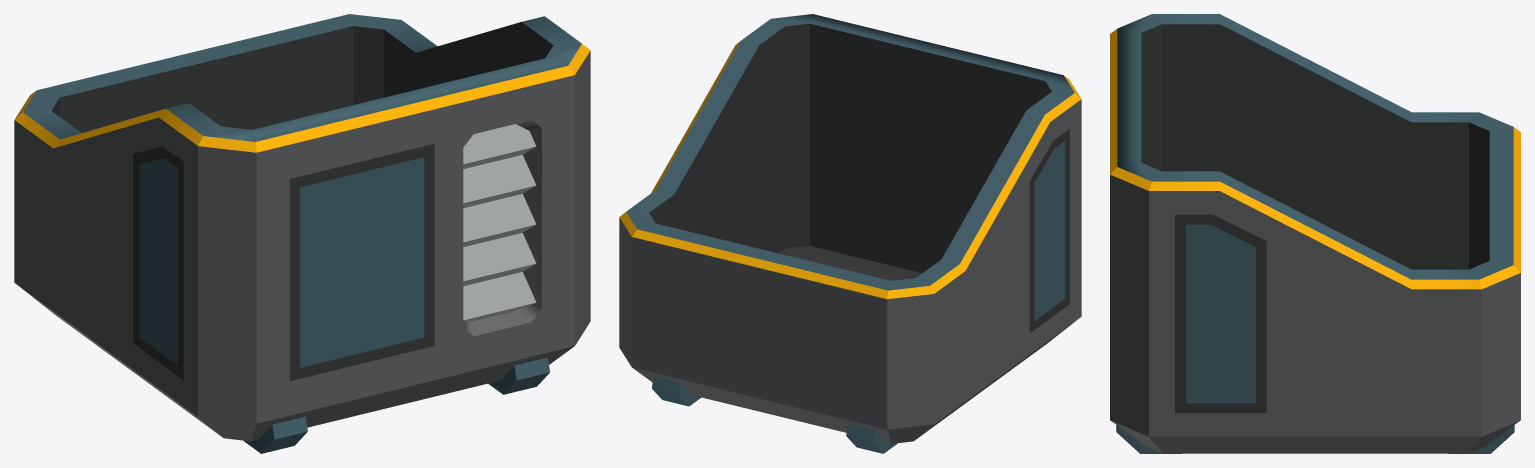
The model's file is Crate_003.fbx.
3 views of the same model, side by side, from view 1: azimuth 30°, elevation 25°; view 2: azimuth 150°, elevation 25°; view 3: azimuth 270°, elevation 25° (orthographic). The views are drawn at different scales.
Visible parts, largest first — view 1: Crate_003; view 2: Crate_003; view 3: Crate_003.
Part boxes in pixels (left/top/right/bottom): Crate_003: left=14, top=14, right=590, bottom=453; Crate_003: left=619, top=14, right=1081, bottom=453; Crate_003: left=1110, top=14, right=1520, bottom=453.
Bounding box in the file's own units: 39.99 × 39.99 × 31.72.
